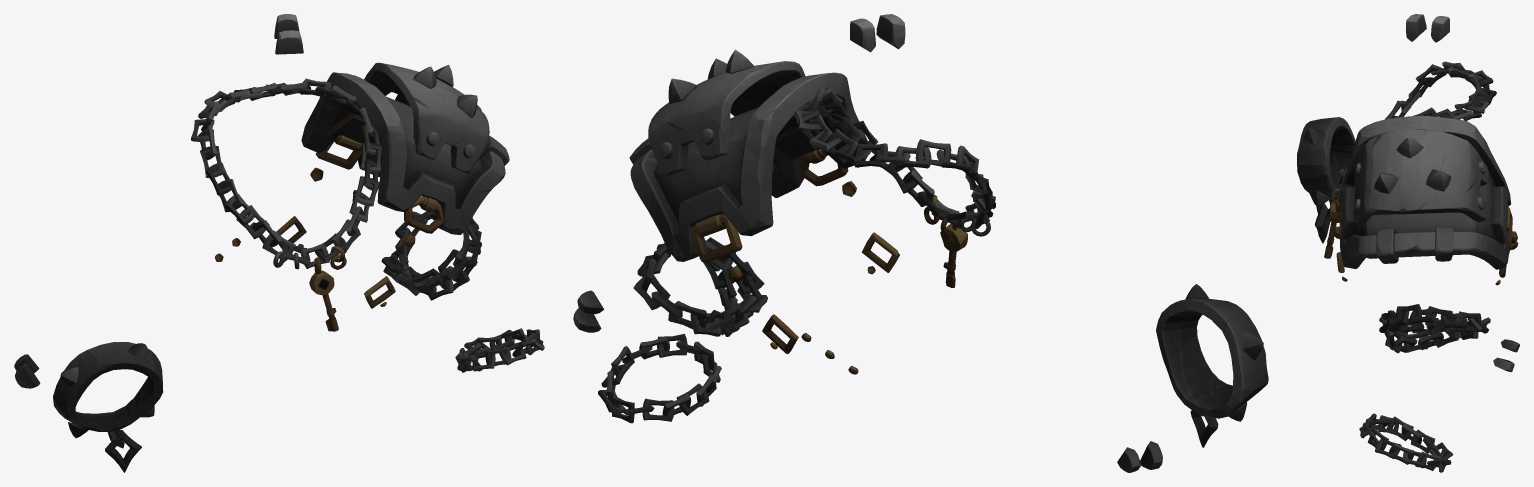
The model's file is mesh12.dat.obj.
3 views of the same model, side by side, from view 1: azimuth 30°, elevation 25°; view 2: azimuth 150°, elevation 25°; view 3: azimuth 270°, elevation 25° (orthographic). The views are drawn at different scales.
Parts seen in each view (by area): view 1: TorsoGear_Metals; view 2: TorsoGear_Metals; view 3: TorsoGear_Metals.
Boxes of the visible parts, left/top/right/bottom form: TorsoGear_Metals: left=14, top=14, right=544, bottom=472; TorsoGear_Metals: left=573, top=14, right=1268, bottom=472; TorsoGear_Metals: left=1297, top=14, right=1519, bottom=472.
Size of the model in its own units: 6.02 by 4.32 by 2.43.
Materials: 1 (1 with a texture image).
